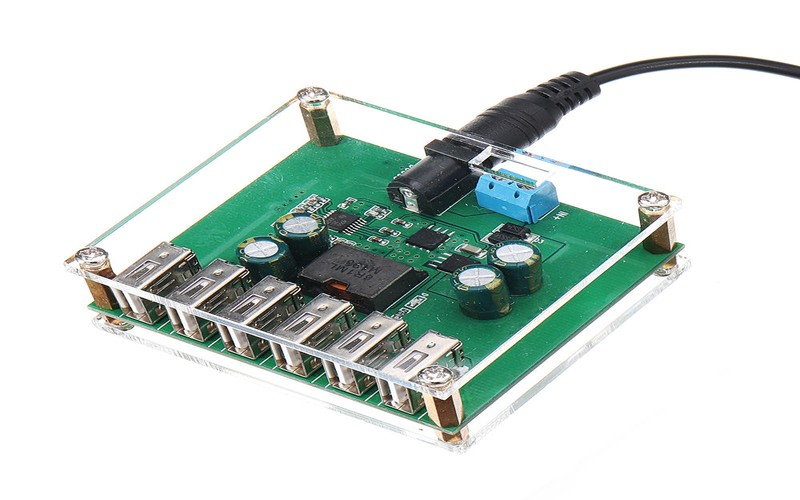Regulator: (79, 71, 723, 446)
